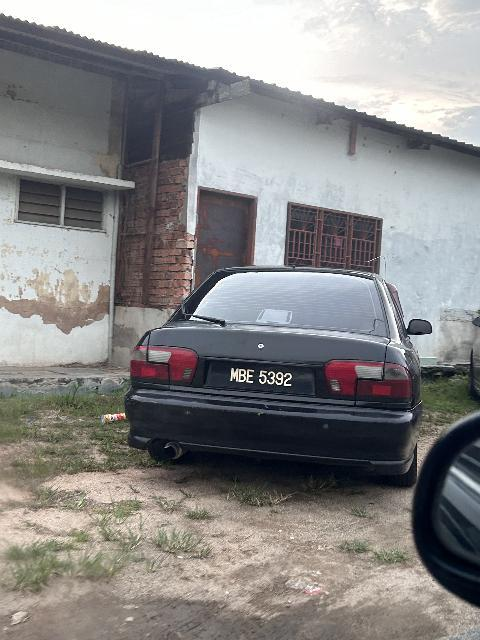License_Plate: (212, 360, 315, 400)
MBE5392: (212, 360, 315, 400)
car: (122, 260, 450, 493)
